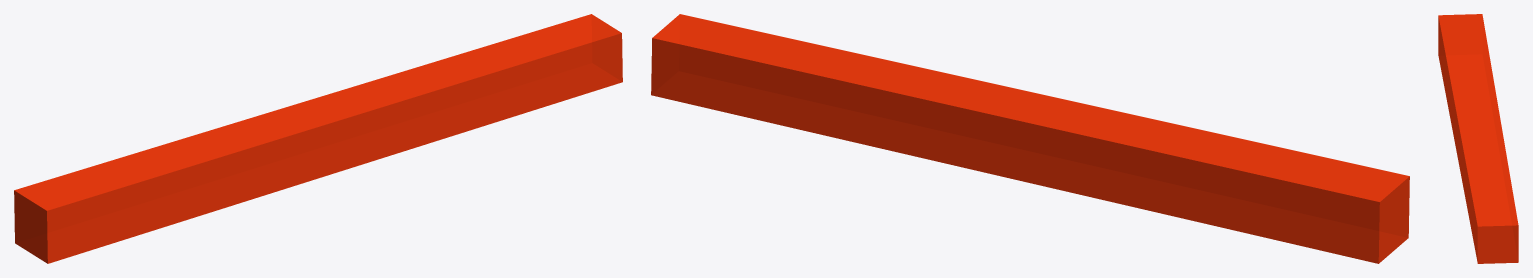
File: Event_421127236_EErechit_15.fbx
3 views of the same model, side by side, from view 1: azimuth 30°, elevation 25°; view 2: azimuth 150°, elevation 25°; view 3: azimuth 270°, elevation 25° (orthographic). The views are drawn at different scales.
Parts seen in each view (by area): view 1: Model; view 2: Model; view 3: Model.
Boxes of the visible parts, x1,y1,x2,y2 form: Model: (14,14,622,263); Model: (651,14,1409,263); Model: (1438,14,1518,263).
Size of the model in its own units: 0.9317 by 0.0959 by 0.1423.
